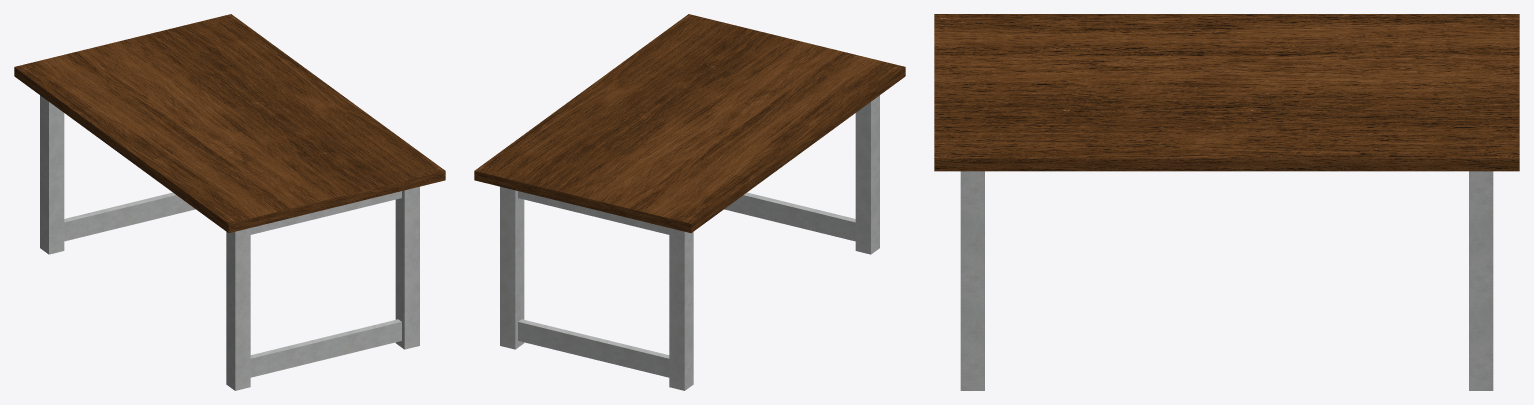
Rendered from table.glb.
The picture shows the model from 3 angles, left to right: view 1: azimuth 30°, elevation 25°; view 2: azimuth 150°, elevation 25°; view 3: azimuth 270°, elevation 25°; orthographic projection. The views are drawn at different scales.
Visible parts, largest first — view 1: Object_4, Object_6; view 2: Object_4, Object_6; view 3: Object_4, Object_6.
Boxes of the visible parts, x1=… form: Object_4: x1=14, y1=14, x2=445, y2=232; Object_6: x1=40, y1=95, x2=419, y2=390; Object_4: x1=474, y1=14, x2=905, y2=232; Object_6: x1=500, y1=95, x2=879, y2=390; Object_4: x1=934, y1=14, x2=1519, y2=171; Object_6: x1=960, y1=171, x2=1493, y2=390.
Bounding box in the file's own units: 1.17 × 0.917 × 2.
2 materials, 2 textured.
